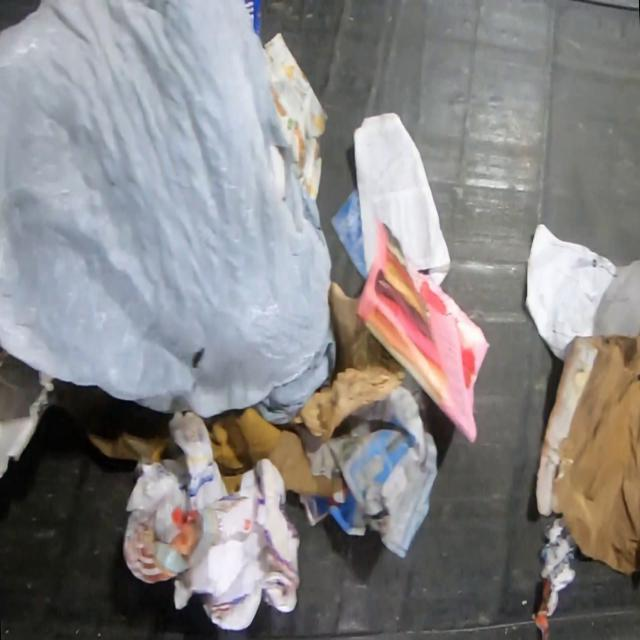cardboard: (204, 406, 348, 499), (56, 379, 176, 465)
soft_plastic: (0, 0, 337, 425)
